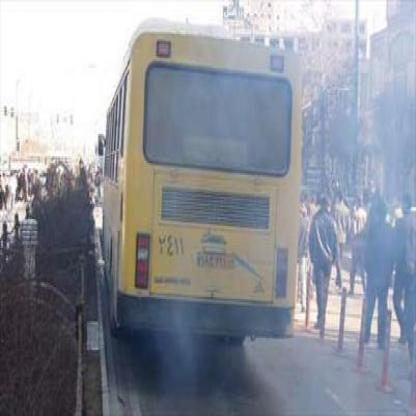Bus: (94, 17, 301, 358)
